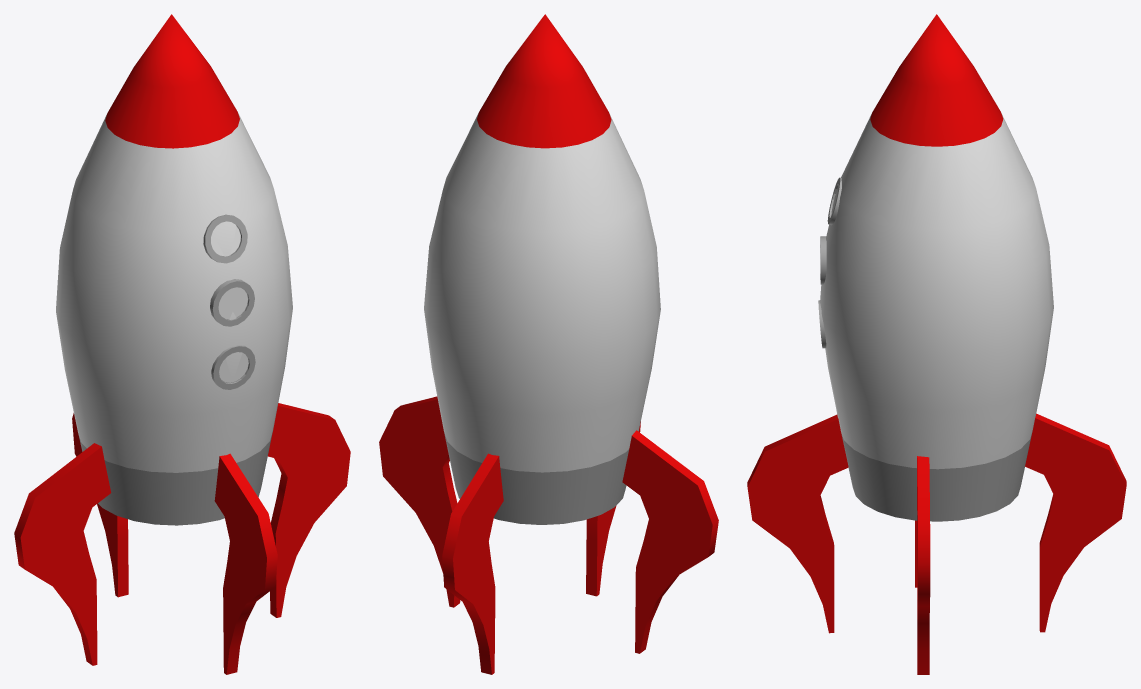
The model's file is rocket.fbx.
The picture shows the model from 3 angles, left to right: view 1: azimuth 30°, elevation 25°; view 2: azimuth 150°, elevation 25°; view 3: azimuth 270°, elevation 25°; orthographic projection.
Visible parts, largest first — view 1: rocket; view 2: rocket; view 3: rocket.
Boxes of the visible parts, x1,y1,x2,y2 form: rocket: [14, 14, 350, 674]; rocket: [379, 14, 718, 674]; rocket: [747, 14, 1126, 674].
Bounding box in the file's own units: 472 × 845 × 472.
